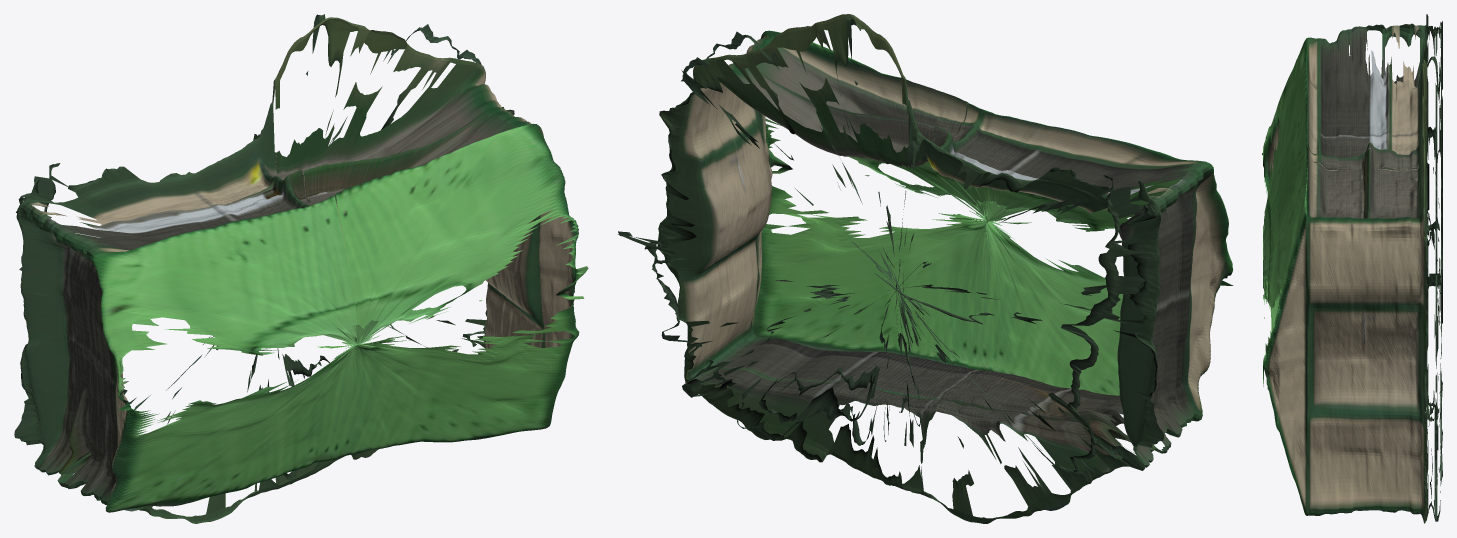
3 views of the same model, side by side, from view 1: azimuth 30°, elevation 25°; view 2: azimuth 150°, elevation 25°; view 3: azimuth 270°, elevation 25° (orthographic). The views are drawn at different scales.
Parts seen in each view (by area): view 1: geometry_0; view 2: geometry_0; view 3: geometry_0.
Boxes of the visible parts, <box> form: geometry_0: <box>14,14,588,523</box>; geometry_0: <box>618,14,1233,523</box>; geometry_0: <box>1262,14,1442,523</box>.
Size of the model in its own units: 1.89 by 1.59 by 0.5783.
1 material, 1 textured.
